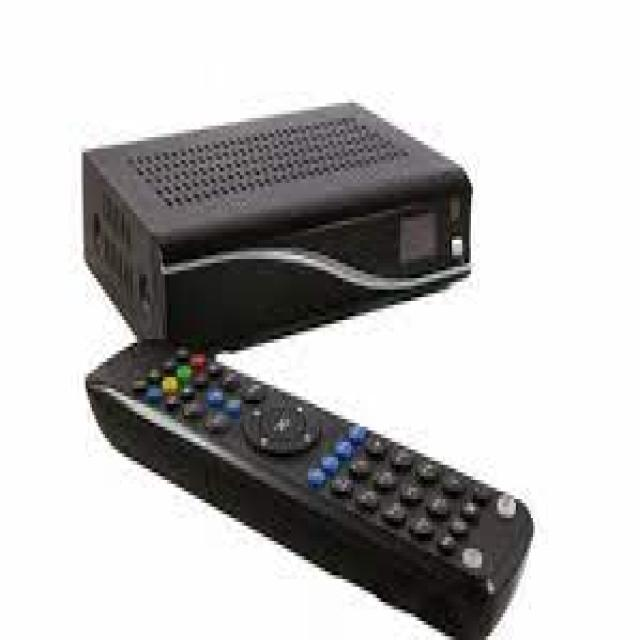remote: (87, 330, 536, 640)
